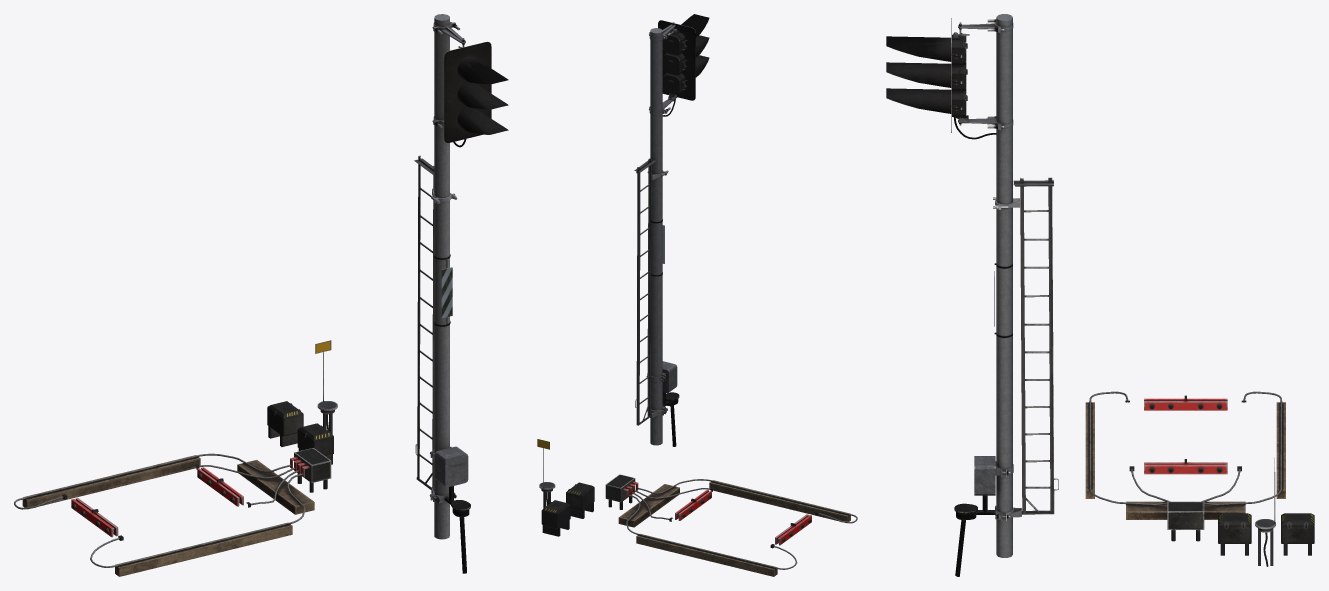
The model's file is RM_sig_P_MM1_T_3_line.gltf.
3 views of the same model, side by side, from view 1: azimuth 30°, elevation 25°; view 2: azimuth 150°, elevation 25°; view 3: azimuth 270°, elevation 25° (orthographic). The views are drawn at different scales.
Parts seen in each view (by area): view 1: Светофор ПРОХОДНОЙ, Изостык; view 2: Светофор ПРОХОДНОЙ, Изостык; view 3: Светофор ПРОХОДНОЙ, Изостык.
Boxes of the visible parts, bbox=[...] form: Светофор ПРОХОДНОЙ: bbox=[414, 14, 508, 573]; Изостык: bbox=[14, 340, 337, 576]; Светофор ПРОХОДНОЙ: bbox=[634, 14, 709, 446]; Изостык: bbox=[537, 439, 857, 576]; Светофор ПРОХОДНОЙ: bbox=[886, 14, 1058, 576]; Изостык: bbox=[1085, 391, 1314, 566].
Bounding box in the file's own units: 4.1 × 6.54 × 4.54.
4 materials, 3 textured.
